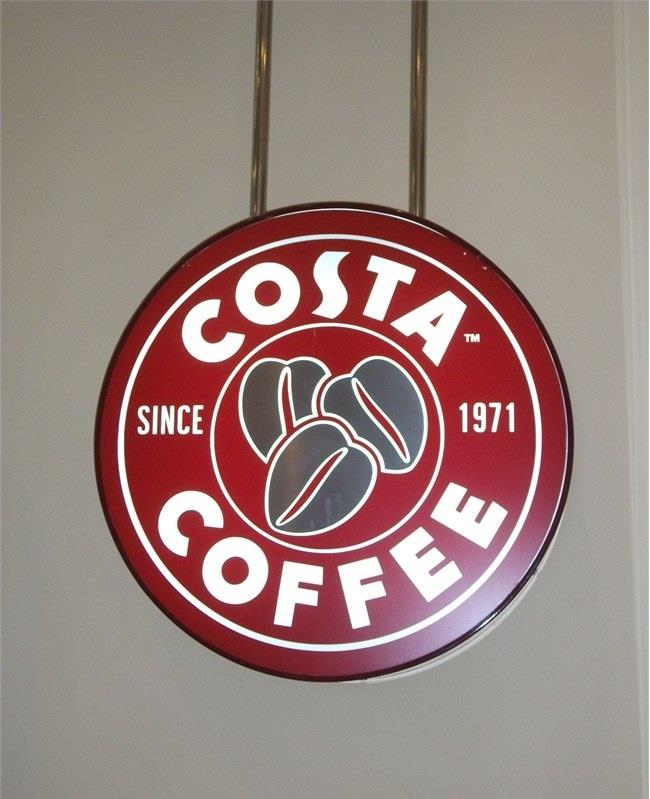costa_coffee: (128, 221, 541, 659)
